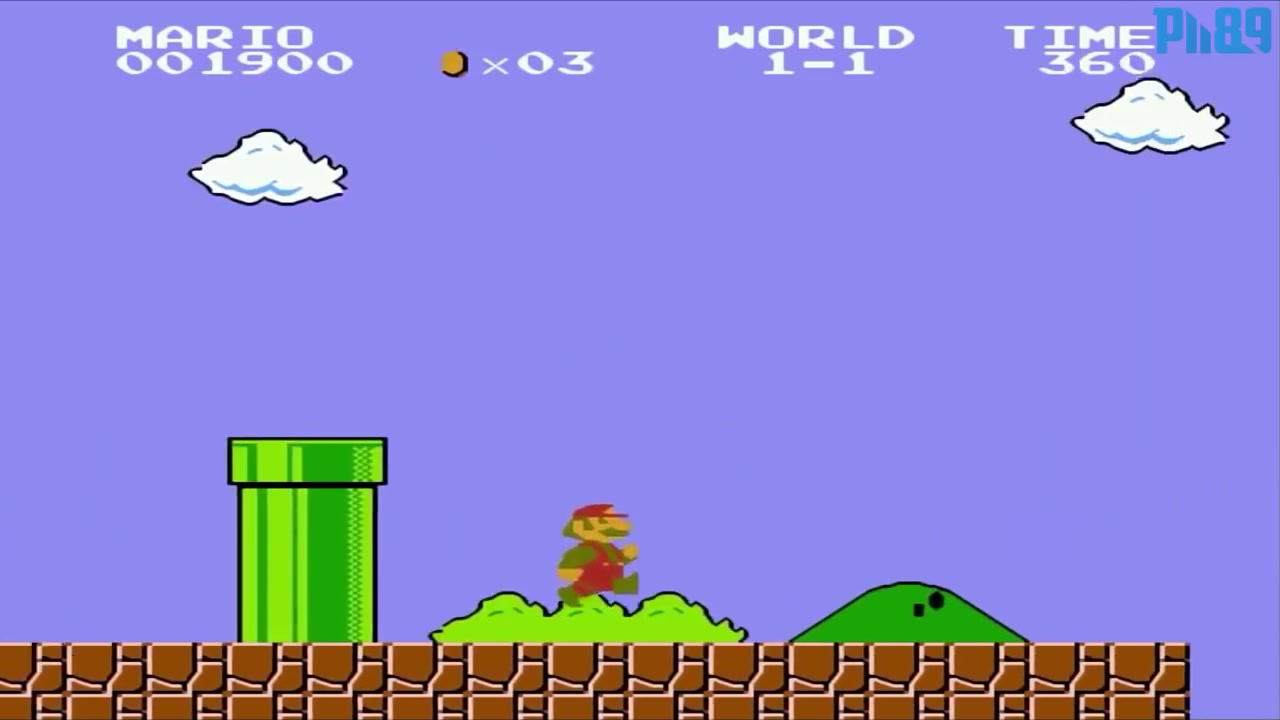mario: (544, 498, 652, 616)
